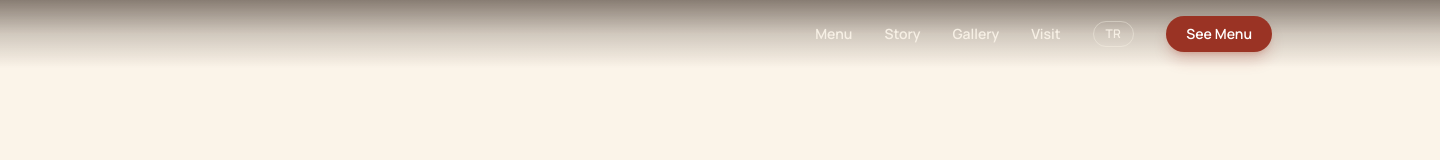
Test: dil değiştirici: EN→TR metinleri, <html lang> ve localStorage'ı günceller
Expected: the link "See Menu" is shown, [1166,16,1272,52]
What coordinates should you click on to do the following:
click the button with aria-label "Change language"
I would click on:
 (1113, 34)
Its box is [1093,21,1134,47].
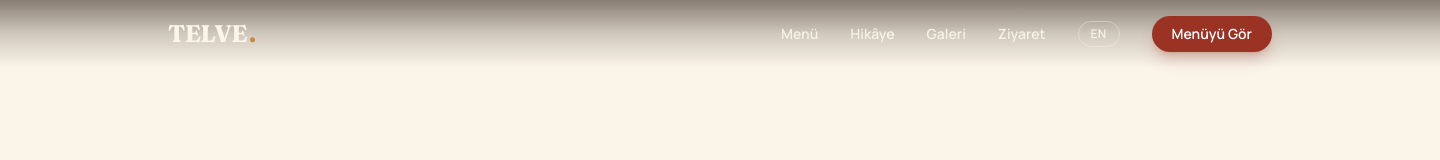
Now the link "Menüyü Gör" is shown, box [1152,16,1272,52]
Now the link "See Menu" is gone
